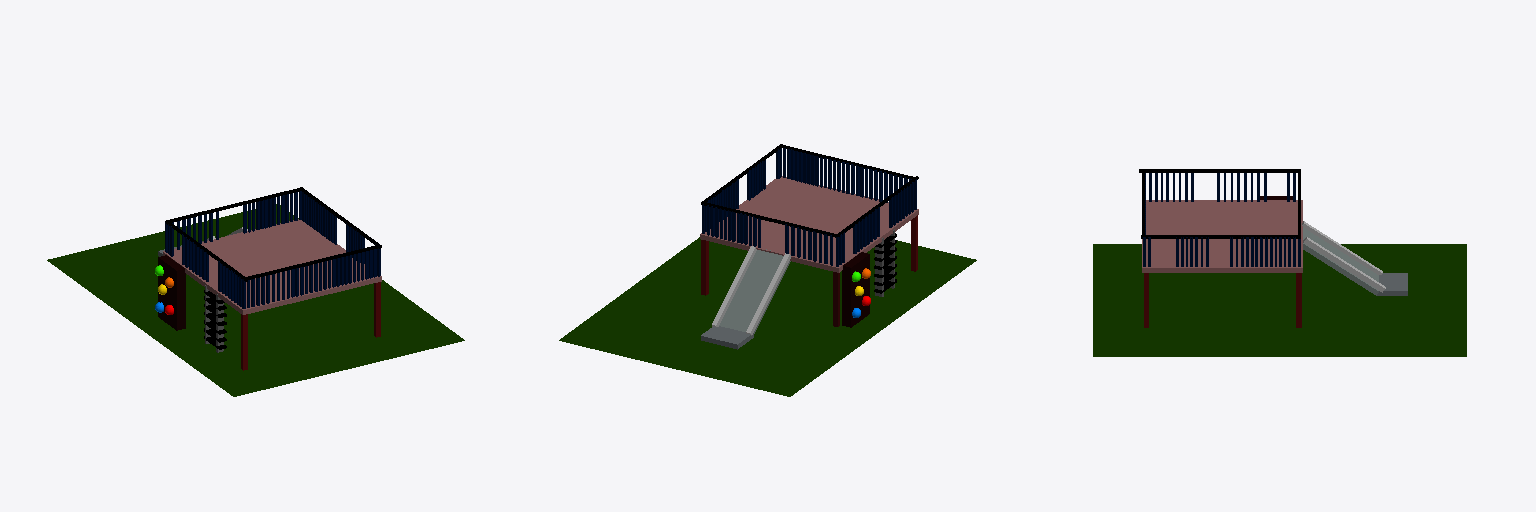
The model's file is playground.obj.
3 views of the same model, side by side, from view 1: azimuth 30°, elevation 25°; view 2: azimuth 150°, elevation 25°; view 3: azimuth 270°, elevation 25° (orthographic).
Visible parts, largest first — view 1: Plane, Box4, Box109; view 2: Plane, Box4, Box105, Box109, Box108, Box107, Box106; view 3: Plane, Box4, Box105, Box106, Box103, Box108, Box95, Box107.
Boxes of the visible parts, box(x1,y1,x2,y2) form: Plane: box(47, 204, 464, 396); Box4: box(163, 219, 381, 314); Box109: box(158, 255, 185, 330); Plane: box(559, 237, 976, 396); Box4: box(700, 176, 918, 272); Box105: box(719, 249, 790, 333); Box109: box(842, 252, 869, 327); Box108: box(701, 326, 753, 349); Box107: box(746, 253, 790, 335); Box106: box(712, 246, 756, 327); Plane: box(1093, 244, 1466, 356); Box4: box(1142, 200, 1302, 272); Box105: box(1303, 228, 1378, 295); Box106: box(1303, 237, 1385, 292); Box103: box(1139, 169, 1299, 172); Box108: box(1377, 273, 1407, 295); Box95: box(1141, 235, 1300, 238); Box107: box(1302, 221, 1382, 274).
Bounding box in the file's own units: 5 × 1.95 × 7.